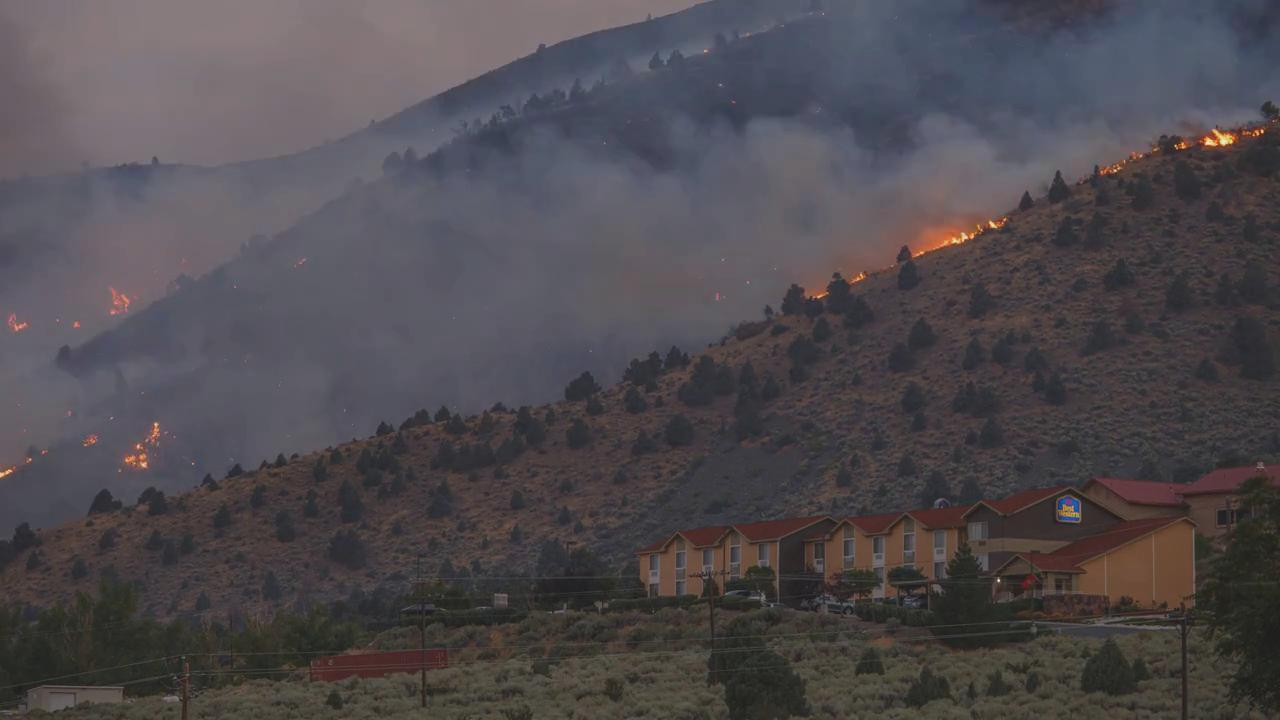fire: (1194, 123, 1265, 147), (946, 219, 1006, 241)
smoke: (150, 149, 760, 326), (788, 44, 1125, 171)
